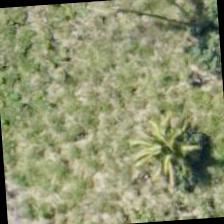Kelapa_Sawit: (111, 98, 208, 194)
